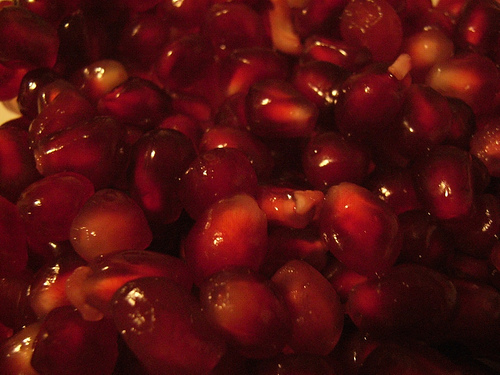pomogranate: (2, 2, 498, 373)
